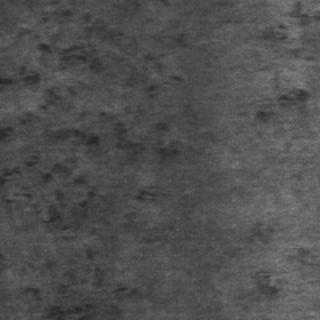rolled pit: (0, 66, 108, 314), (114, 42, 178, 205), (7, 7, 109, 107), (243, 79, 310, 131)
